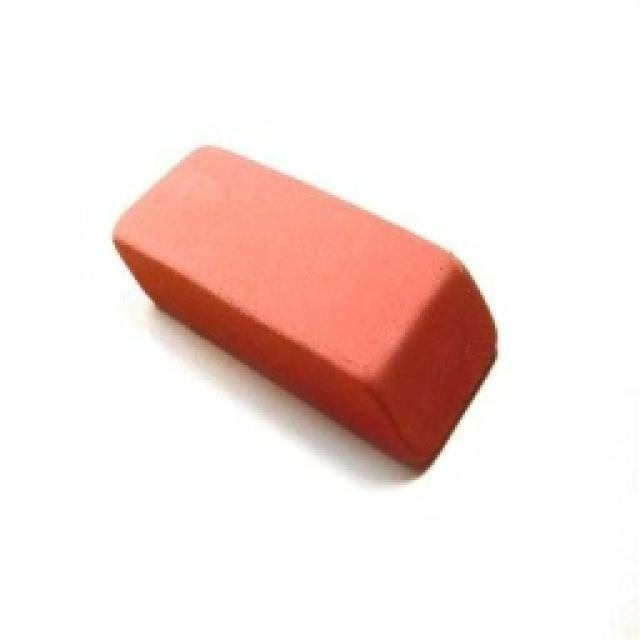Silgi: (116, 139, 497, 475)
